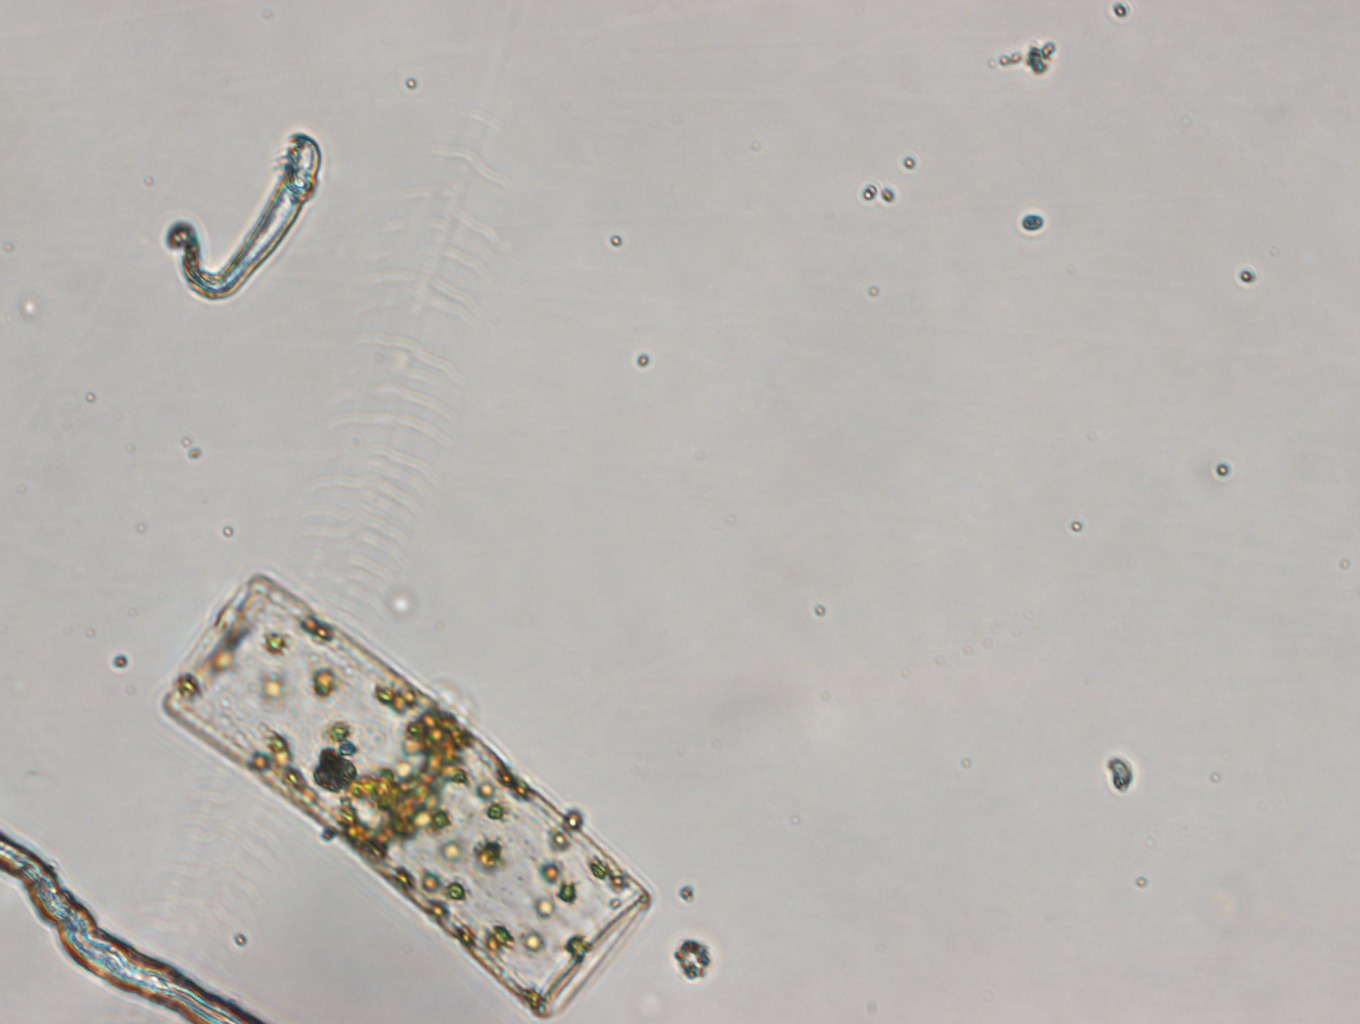guinardia flaccida: (158, 569, 652, 1018)
